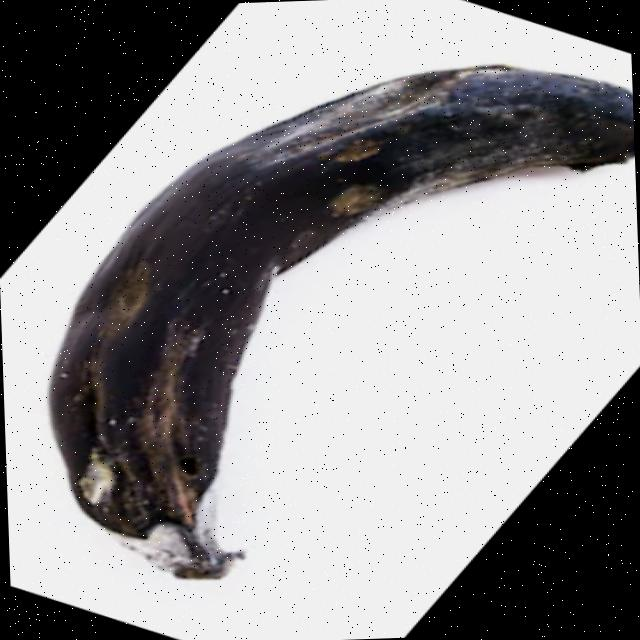Rotten: (33, 57, 640, 587)
